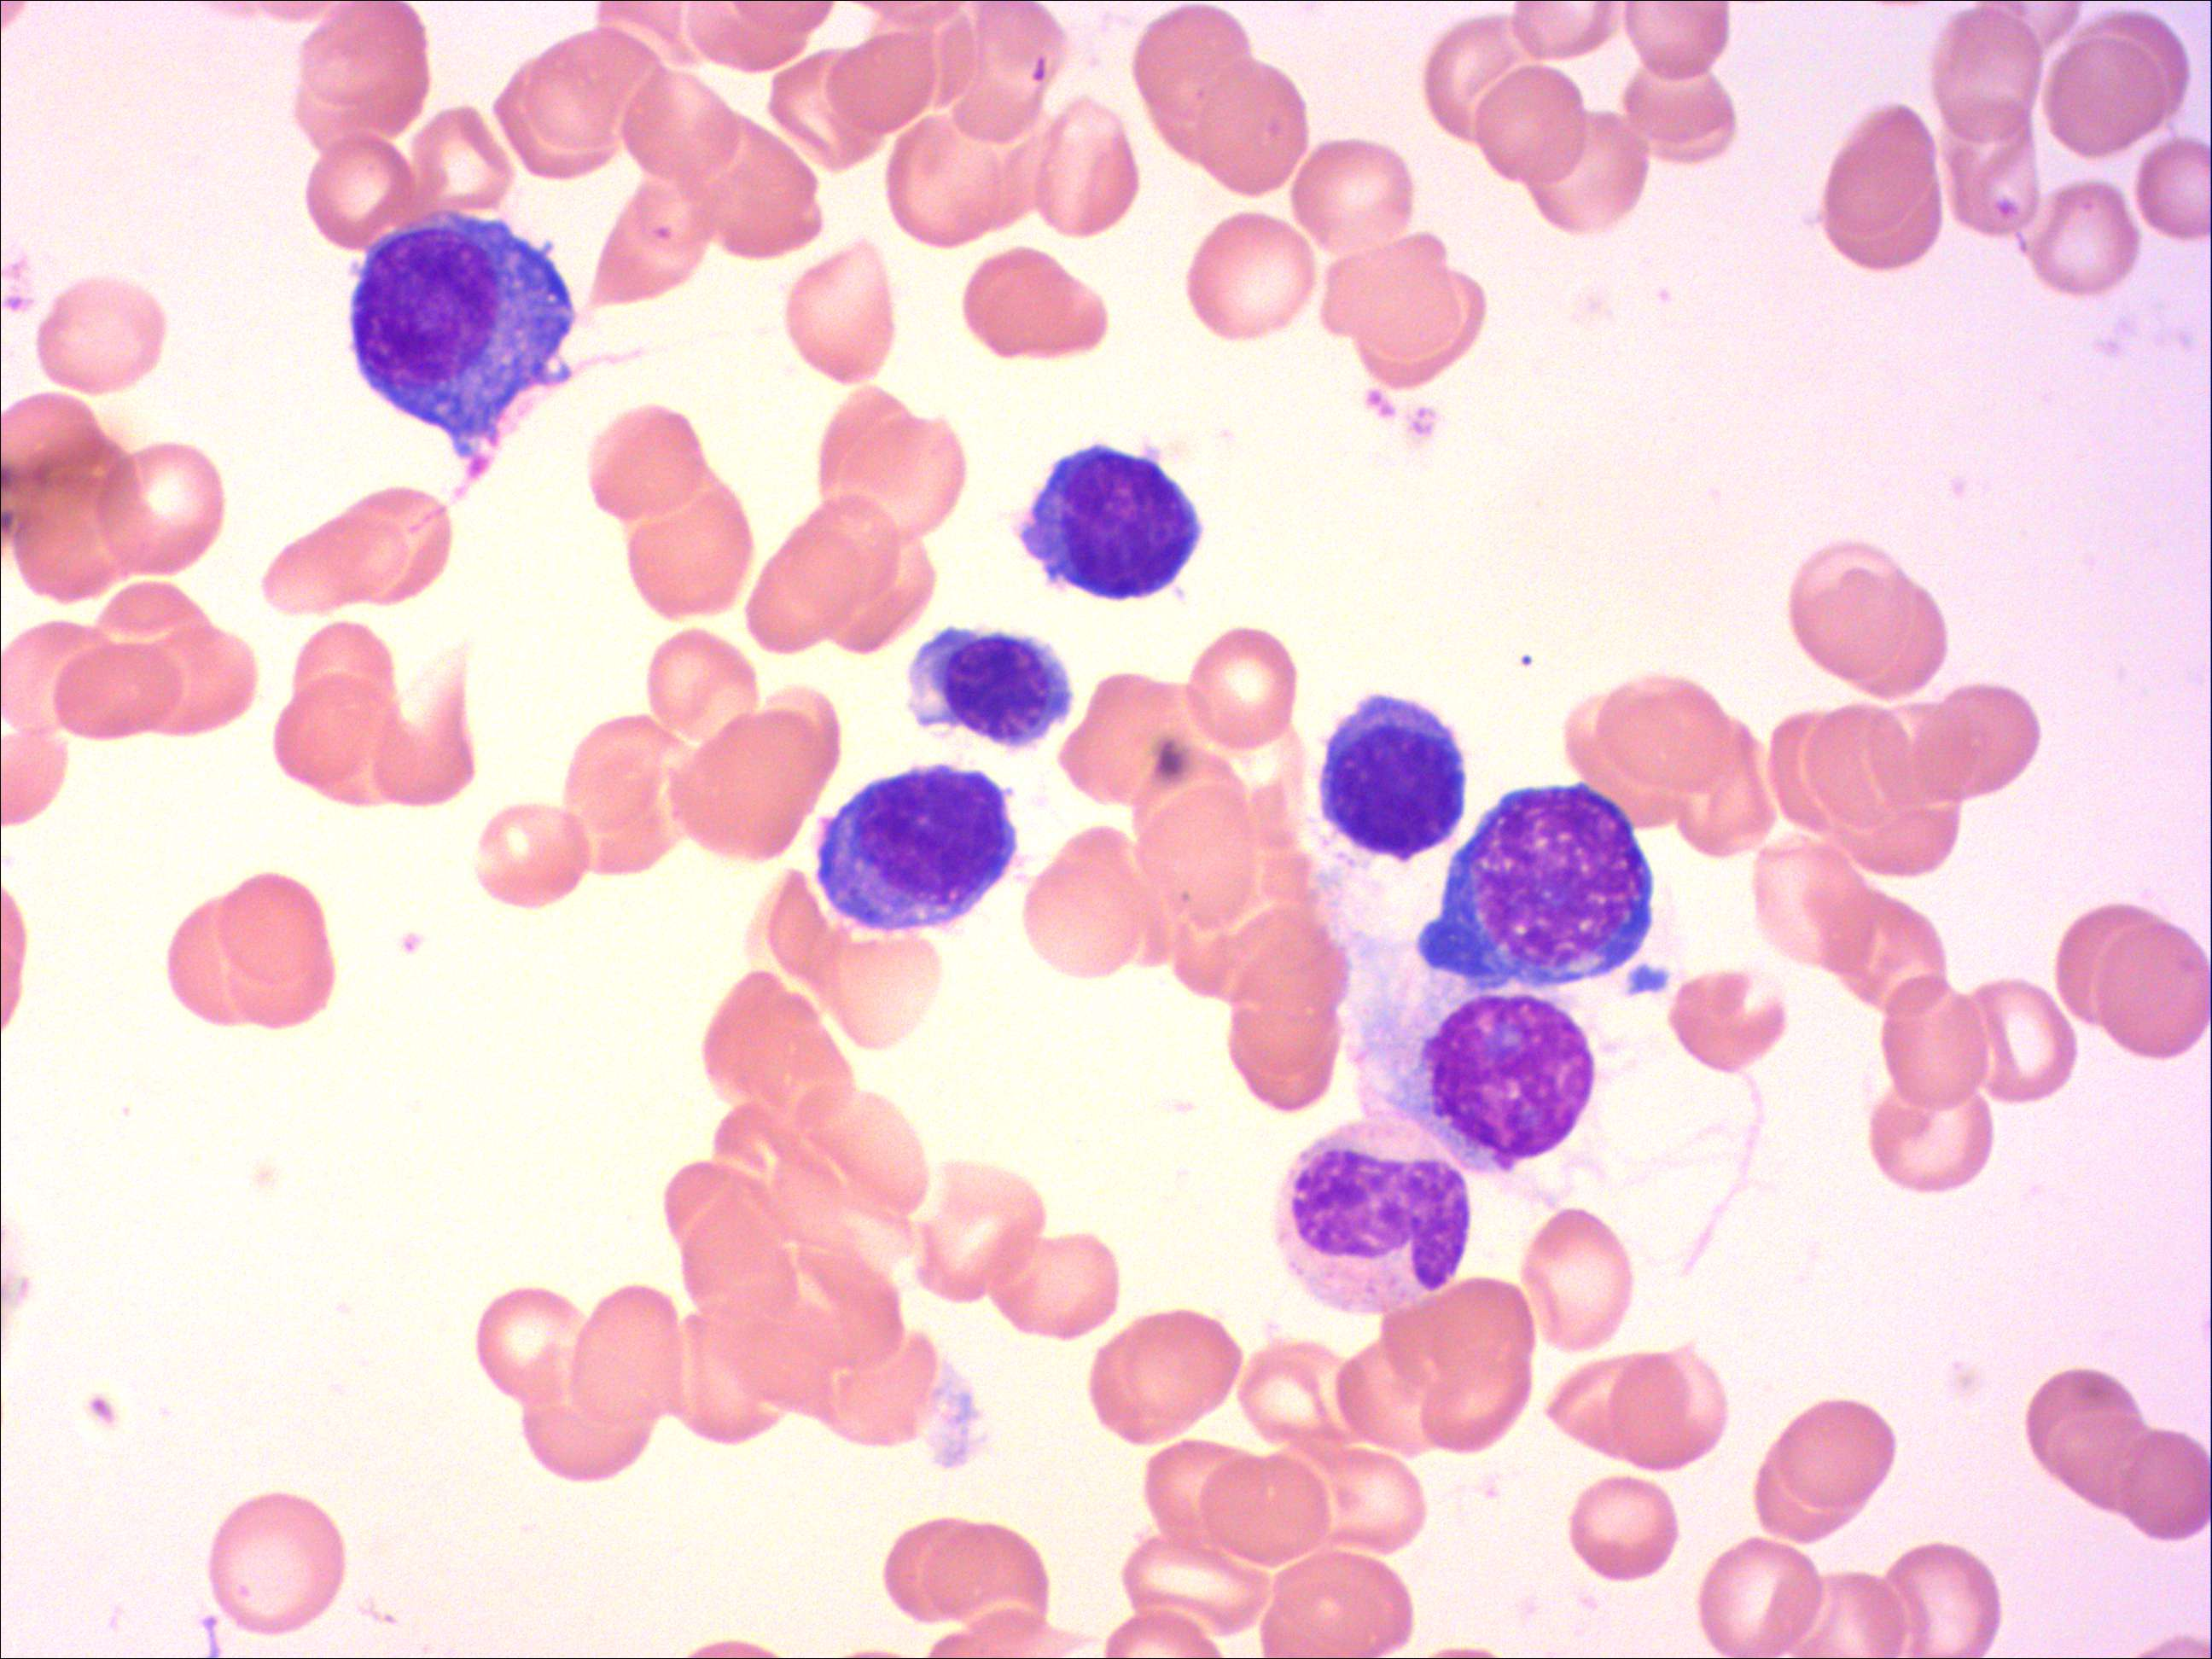23: (1411, 777, 1660, 993)
24: (902, 622, 1076, 758)
5: (1268, 1110, 1475, 1321)
51: (341, 204, 585, 469), (813, 762, 1021, 936), (1012, 434, 1207, 606), (1312, 683, 1470, 871)
x: (1378, 986, 1606, 1182)
